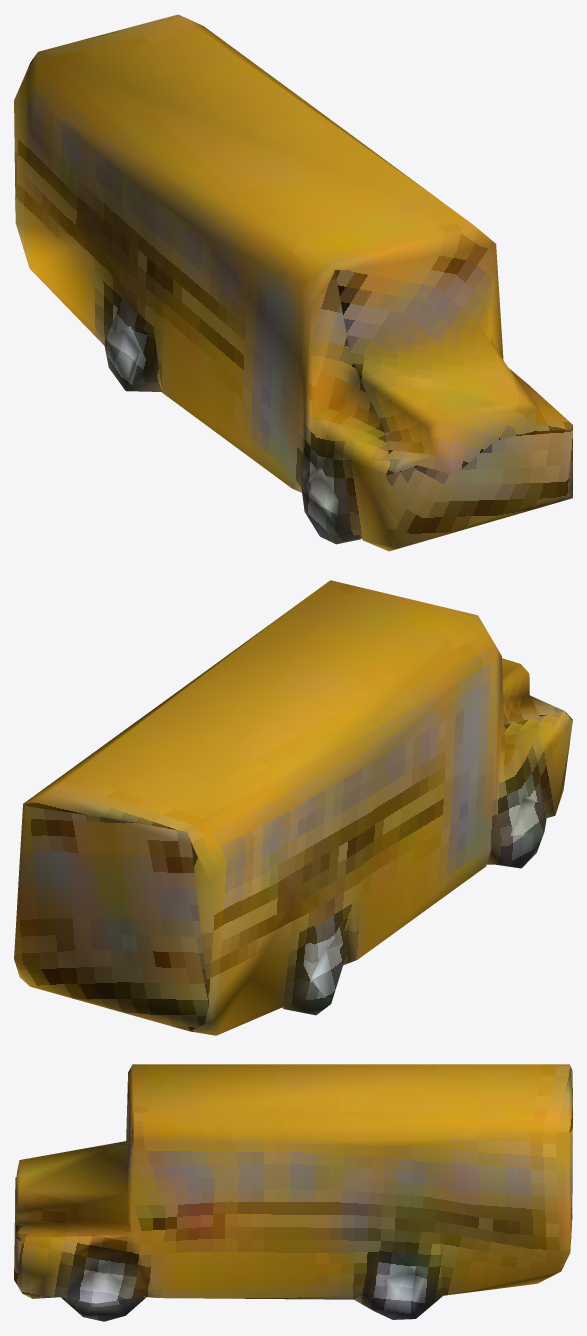
Rendered from SCHOOL_BUS-low.glb.
3 views of the same model, one above another, from view 1: azimuth 30°, elevation 25°; view 2: azimuth 150°, elevation 25°; view 3: azimuth 270°, elevation 25° (orthographic). The views are drawn at different scales.
Visible parts, largest first — view 1: SCHOOL_BUS; view 2: SCHOOL_BUS; view 3: SCHOOL_BUS.
Boxes of the visible parts, x1=… form: SCHOOL_BUS: x1=14, y1=14, x2=572, y2=551; SCHOOL_BUS: x1=14, y1=580, x2=572, y2=1035; SCHOOL_BUS: x1=14, y1=1064, x2=572, y2=1321.
Size of the model in its own units: 0.0317 by 0.0378 by 0.0975.
1 material, 1 textured.
